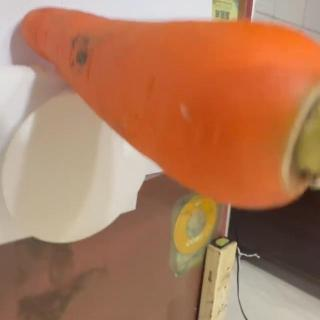carrot: (22, 6, 320, 208)
